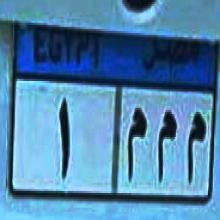1: (60, 97, 69, 183)
meem: (180, 111, 208, 185), (124, 108, 149, 184), (152, 109, 178, 182)
